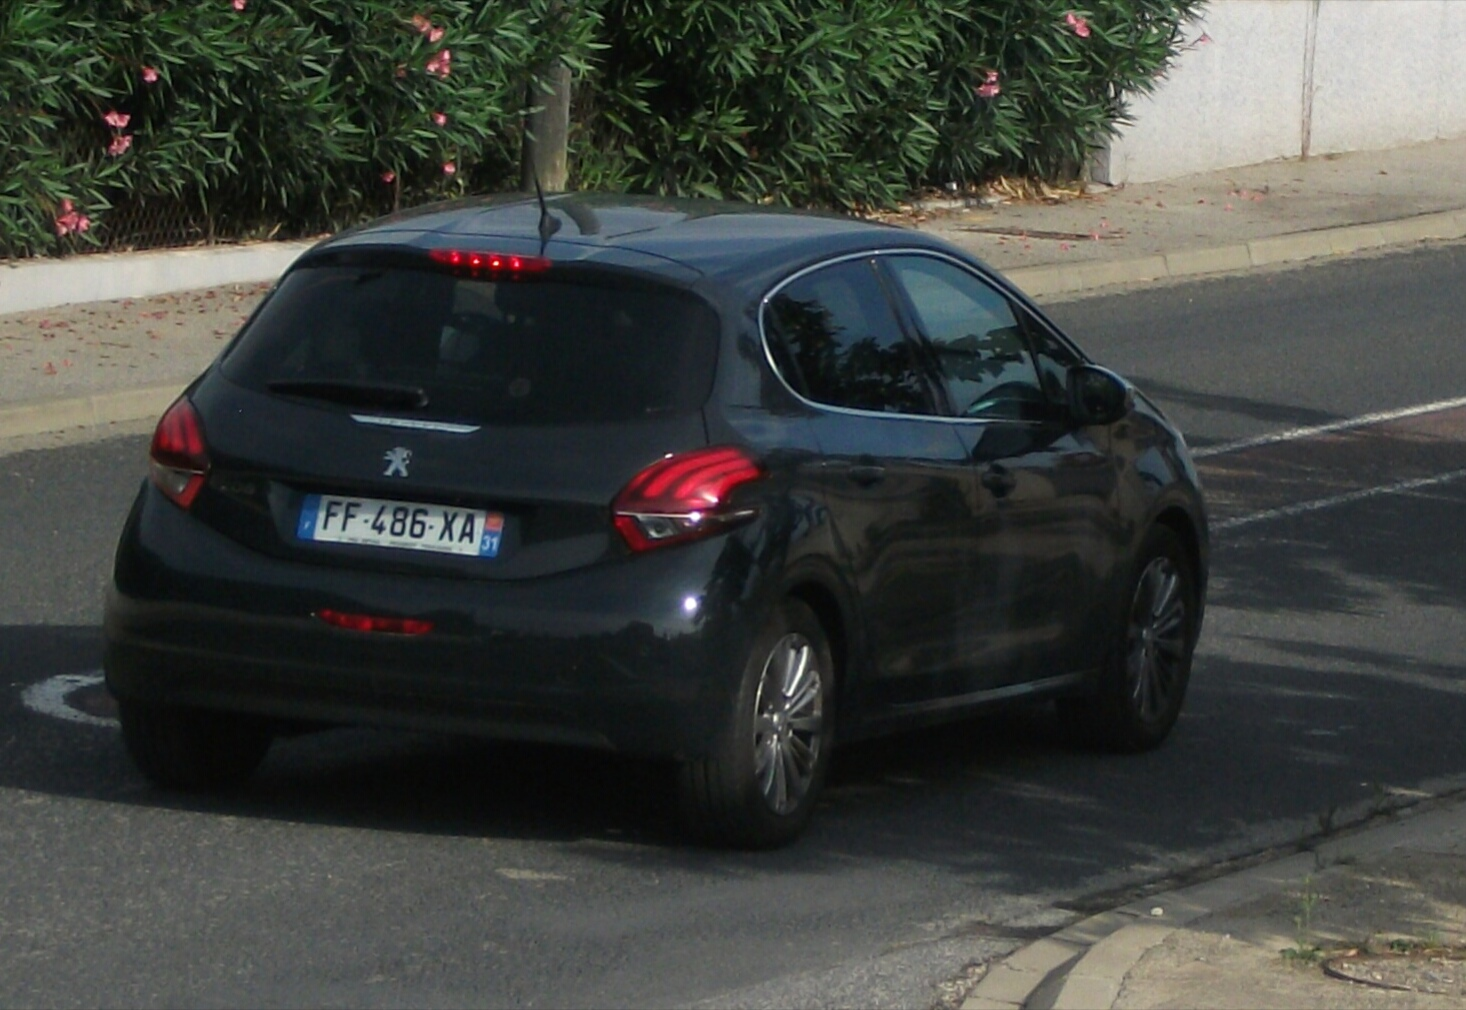licence plate: (299, 489, 507, 562)
